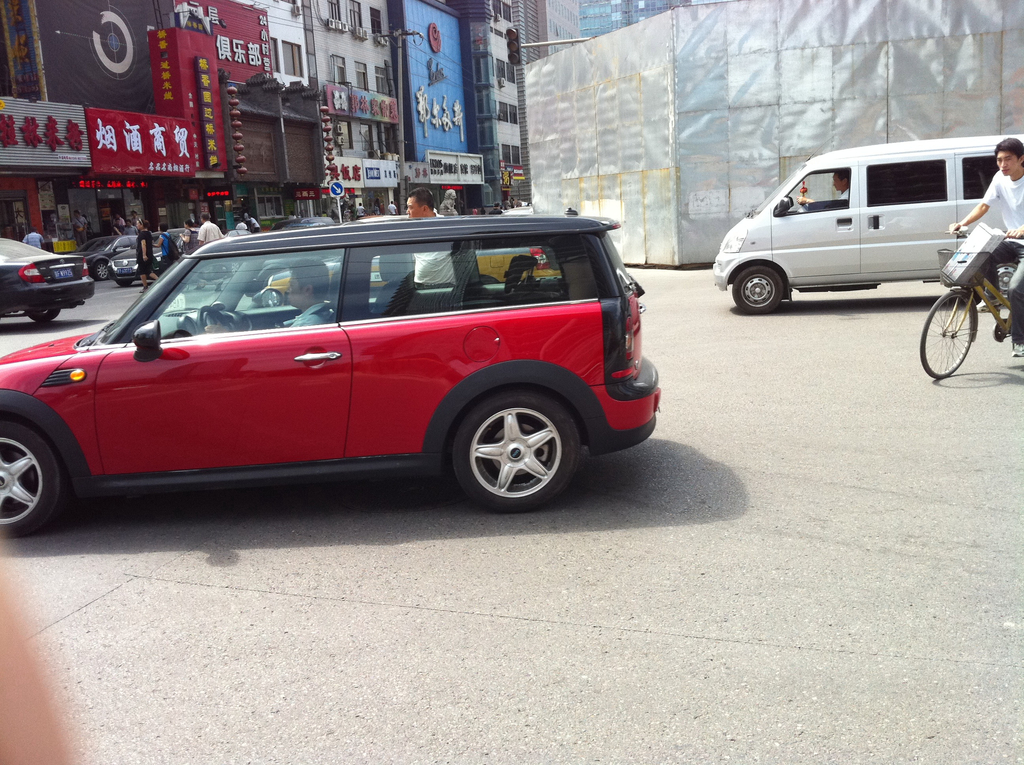Car: (0, 201, 660, 539)
